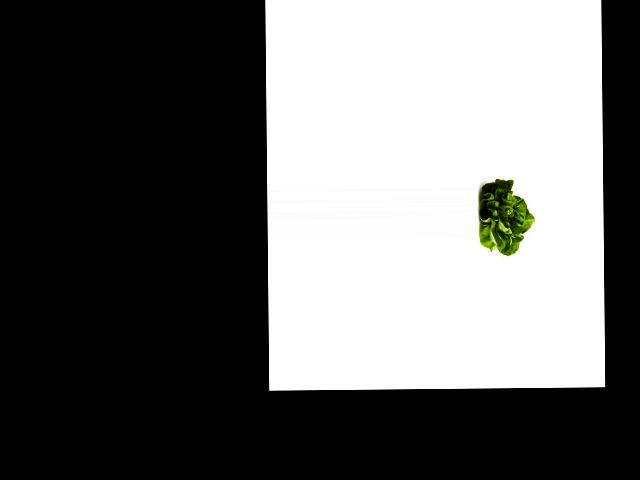lettuce: (478, 177, 534, 258)
